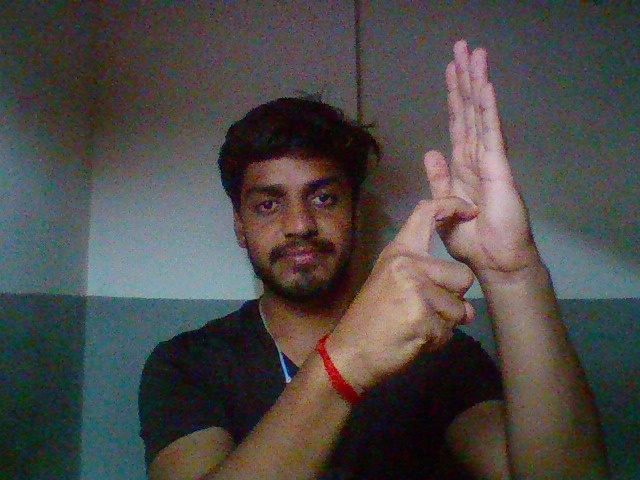H: (352, 35, 554, 361)
